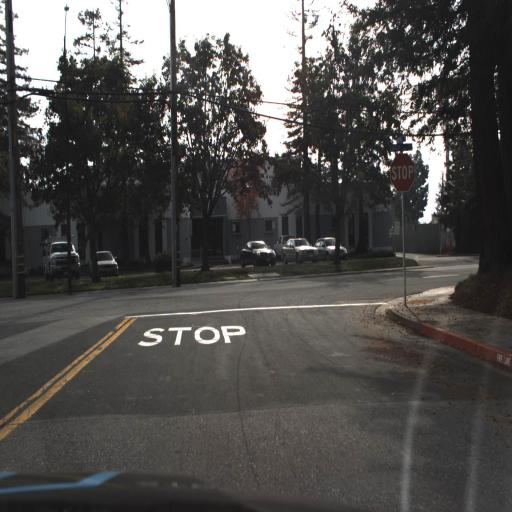car: (40, 233, 82, 277), (281, 236, 320, 265), (239, 240, 276, 268), (91, 245, 120, 277), (321, 233, 348, 265)
